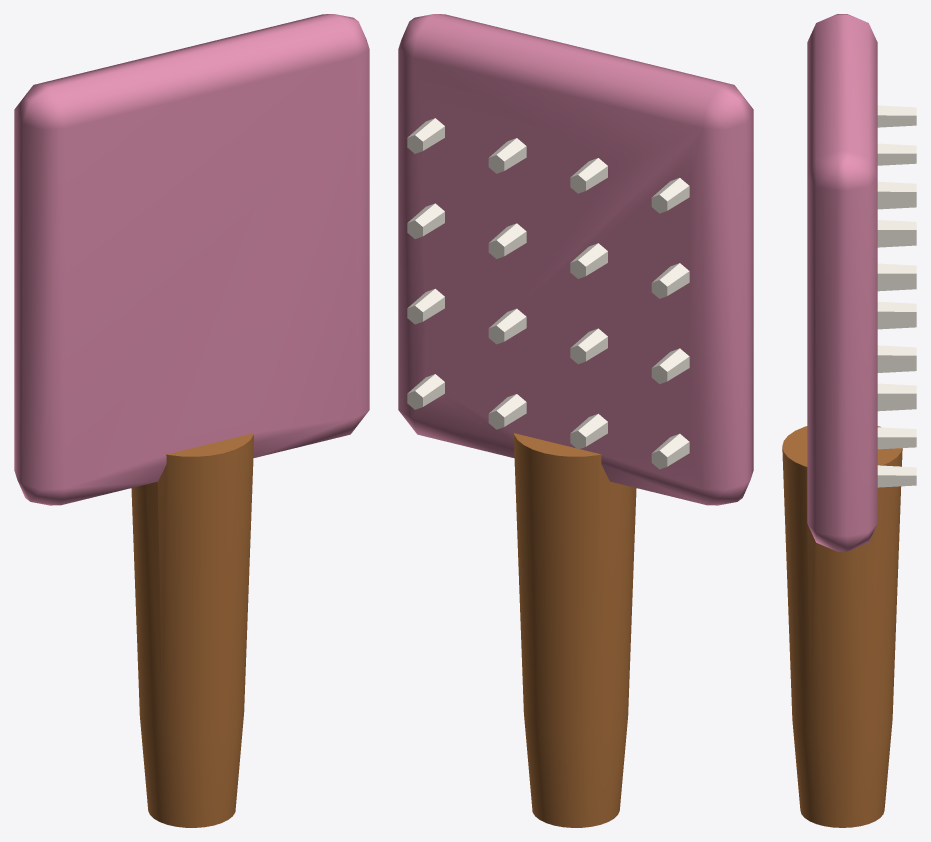
Rendered from hairbrush.glb.
The picture shows the model from 3 angles, left to right: view 1: azimuth 30°, elevation 25°; view 2: azimuth 150°, elevation 25°; view 3: azimuth 270°, elevation 25°; orthographic projection. The views are drawn at different scales.
Parts seen in each view (by area): view 1: hairbrush; view 2: hairbrush; view 3: hairbrush.
Boxes of the visible parts, x1,y1,x2,y2 form: hairbrush: (14, 14, 369, 827); hairbrush: (398, 14, 753, 827); hairbrush: (782, 14, 916, 827).
Bounding box in the file's own units: 0.0427 × 0.09 × 0.0151.
